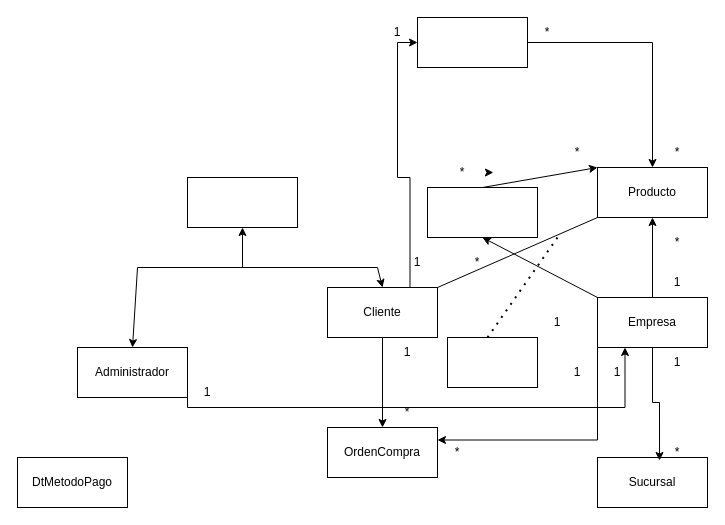
Some shapes in this 725 by 525 pixel diagram are drawn without their labels. Each missing label, with the centre of its shape:
Calificacion: the point at 492,362
Carrito: the point at 472,42
Categoria: the point at 482,212
Usuarios: the point at 242,202
